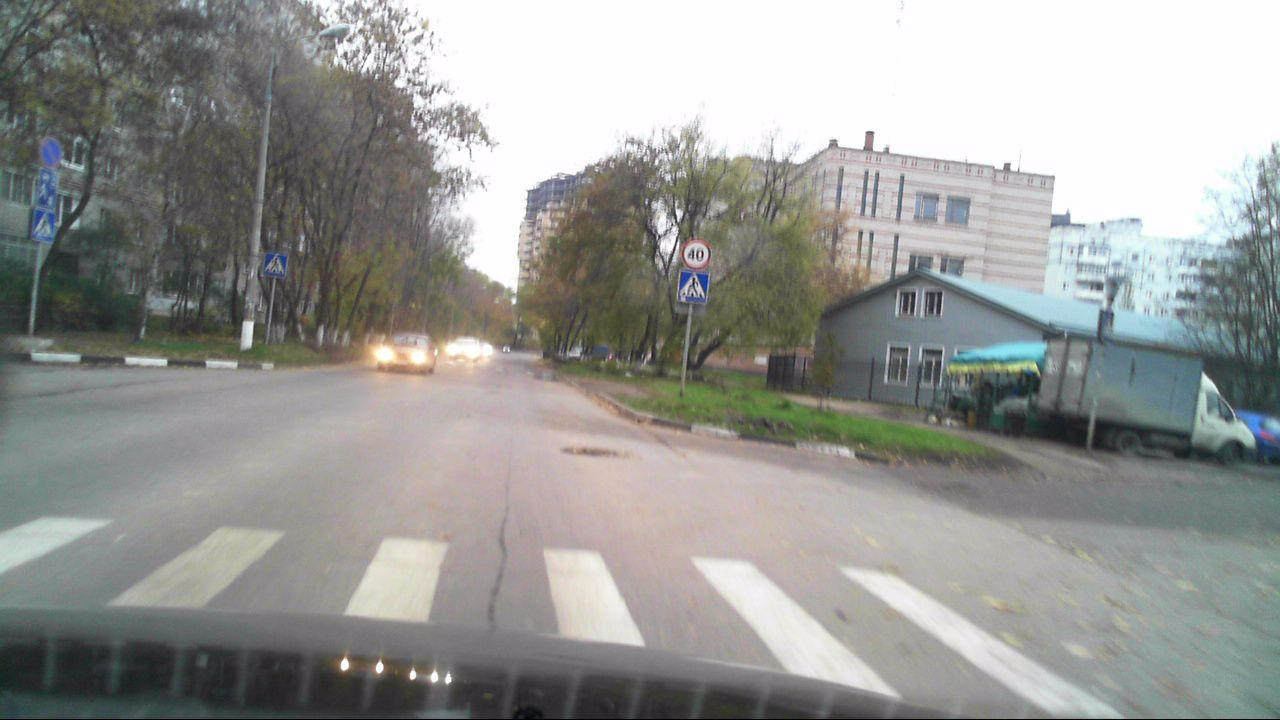3_24: (678, 240, 712, 269)
3_28: (38, 136, 63, 168)
5_19_1: (673, 268, 711, 306), (262, 253, 288, 280)
5_19_2: (31, 210, 55, 242)
5_21: (35, 172, 56, 206)
